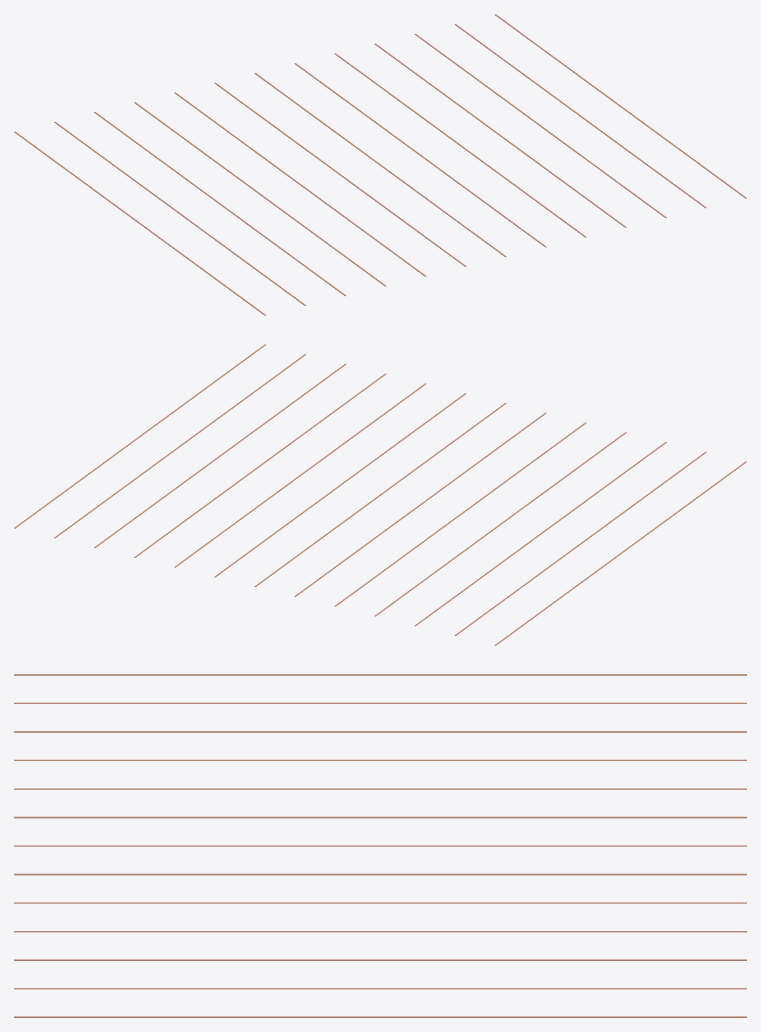
3 views of the same model, one above another, from view 1: azimuth 30°, elevation 25°; view 2: azimuth 150°, elevation 25°; view 3: azimuth 270°, elevation 25° (orthographic). The views are drawn at different scales.
Parts seen in each view (by area): view 1: Plank seam, Plank seam.003, Plank seam.009, Plank seam.012, Plank seam.002, Plank seam.004, Plank seam.005, Plank seam.007, Plank seam.008, Plank seam.010, Plank seam.001, Plank seam.011 (+1 smaller); view 2: Plank seam, Plank seam.003, Plank seam.009, Plank seam.012, Plank seam.002, Plank seam.004, Plank seam.005, Plank seam.007, Plank seam.008, Plank seam.010, Plank seam.001, Plank seam.011 (+1 smaller); view 3: Plank seam.005, Plank seam.007, Plank seam, Plank seam.001, Plank seam.002, Plank seam.003, Plank seam.004, Plank seam.006, Plank seam.008, Plank seam.009, Plank seam.010, Plank seam.011 (+1 smaller).
Part boxes in pixels (bbox=[...]): Plank seam: bbox=[14, 131, 266, 315]; Plank seam.003: bbox=[134, 102, 386, 286]; Plank seam.009: bbox=[374, 43, 626, 227]; Plank seam.012: bbox=[494, 14, 746, 198]; Plank seam.002: bbox=[94, 112, 346, 296]; Plank seam.004: bbox=[174, 92, 426, 276]; Plank seam.005: bbox=[214, 82, 466, 266]; Plank seam.007: bbox=[294, 63, 546, 247]; Plank seam.008: bbox=[334, 53, 586, 237]; Plank seam.010: bbox=[414, 33, 666, 217]; Plank seam.001: bbox=[54, 121, 305, 305]; Plank seam.011: bbox=[455, 24, 706, 208]; Plank seam: bbox=[494, 461, 746, 645]; Plank seam.003: bbox=[374, 432, 626, 616]; Plank seam.009: bbox=[134, 373, 386, 557]; Plank seam.012: bbox=[14, 344, 266, 528]; Plank seam.002: bbox=[414, 442, 666, 626]; Plank seam.004: bbox=[334, 422, 586, 606]; Plank seam.005: bbox=[294, 412, 546, 596]; Plank seam.007: bbox=[214, 393, 466, 577]; Plank seam.008: bbox=[174, 383, 426, 567]; Plank seam.010: bbox=[94, 363, 346, 547]; Plank seam.001: bbox=[455, 451, 706, 635]; Plank seam.011: bbox=[54, 354, 305, 538]; Plank seam.005: bbox=[14, 816, 746, 818]; Plank seam.007: bbox=[14, 873, 746, 875]; Plank seam: bbox=[14, 674, 746, 675]; Plank seam.001: bbox=[14, 702, 746, 703]; Plank seam.002: bbox=[14, 731, 746, 732]; Plank seam.003: bbox=[14, 759, 746, 760]; Plank seam.004: bbox=[14, 788, 746, 789]; Plank seam.006: bbox=[14, 845, 746, 846]; Plank seam.008: bbox=[14, 902, 746, 903]; Plank seam.009: bbox=[14, 931, 746, 932]; Plank seam.010: bbox=[14, 959, 746, 960]; Plank seam.011: bbox=[14, 988, 746, 989].
Size of the model in its own units: 4.21 by 0.003 by 3.8.
Materials: 1 (1 with a texture image).
